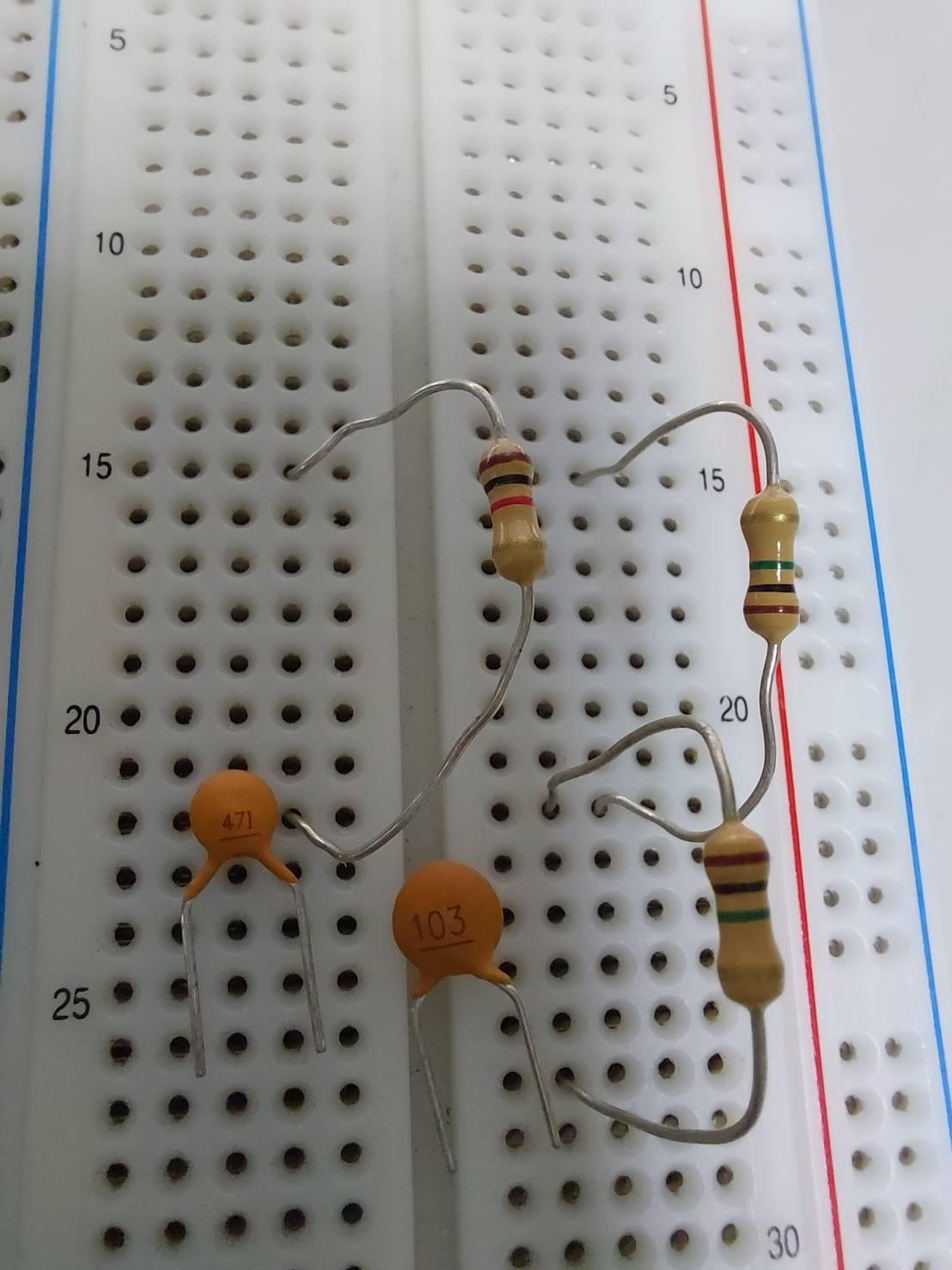resistor: (692, 813, 793, 1011), (739, 488, 811, 636), (477, 442, 551, 582)
